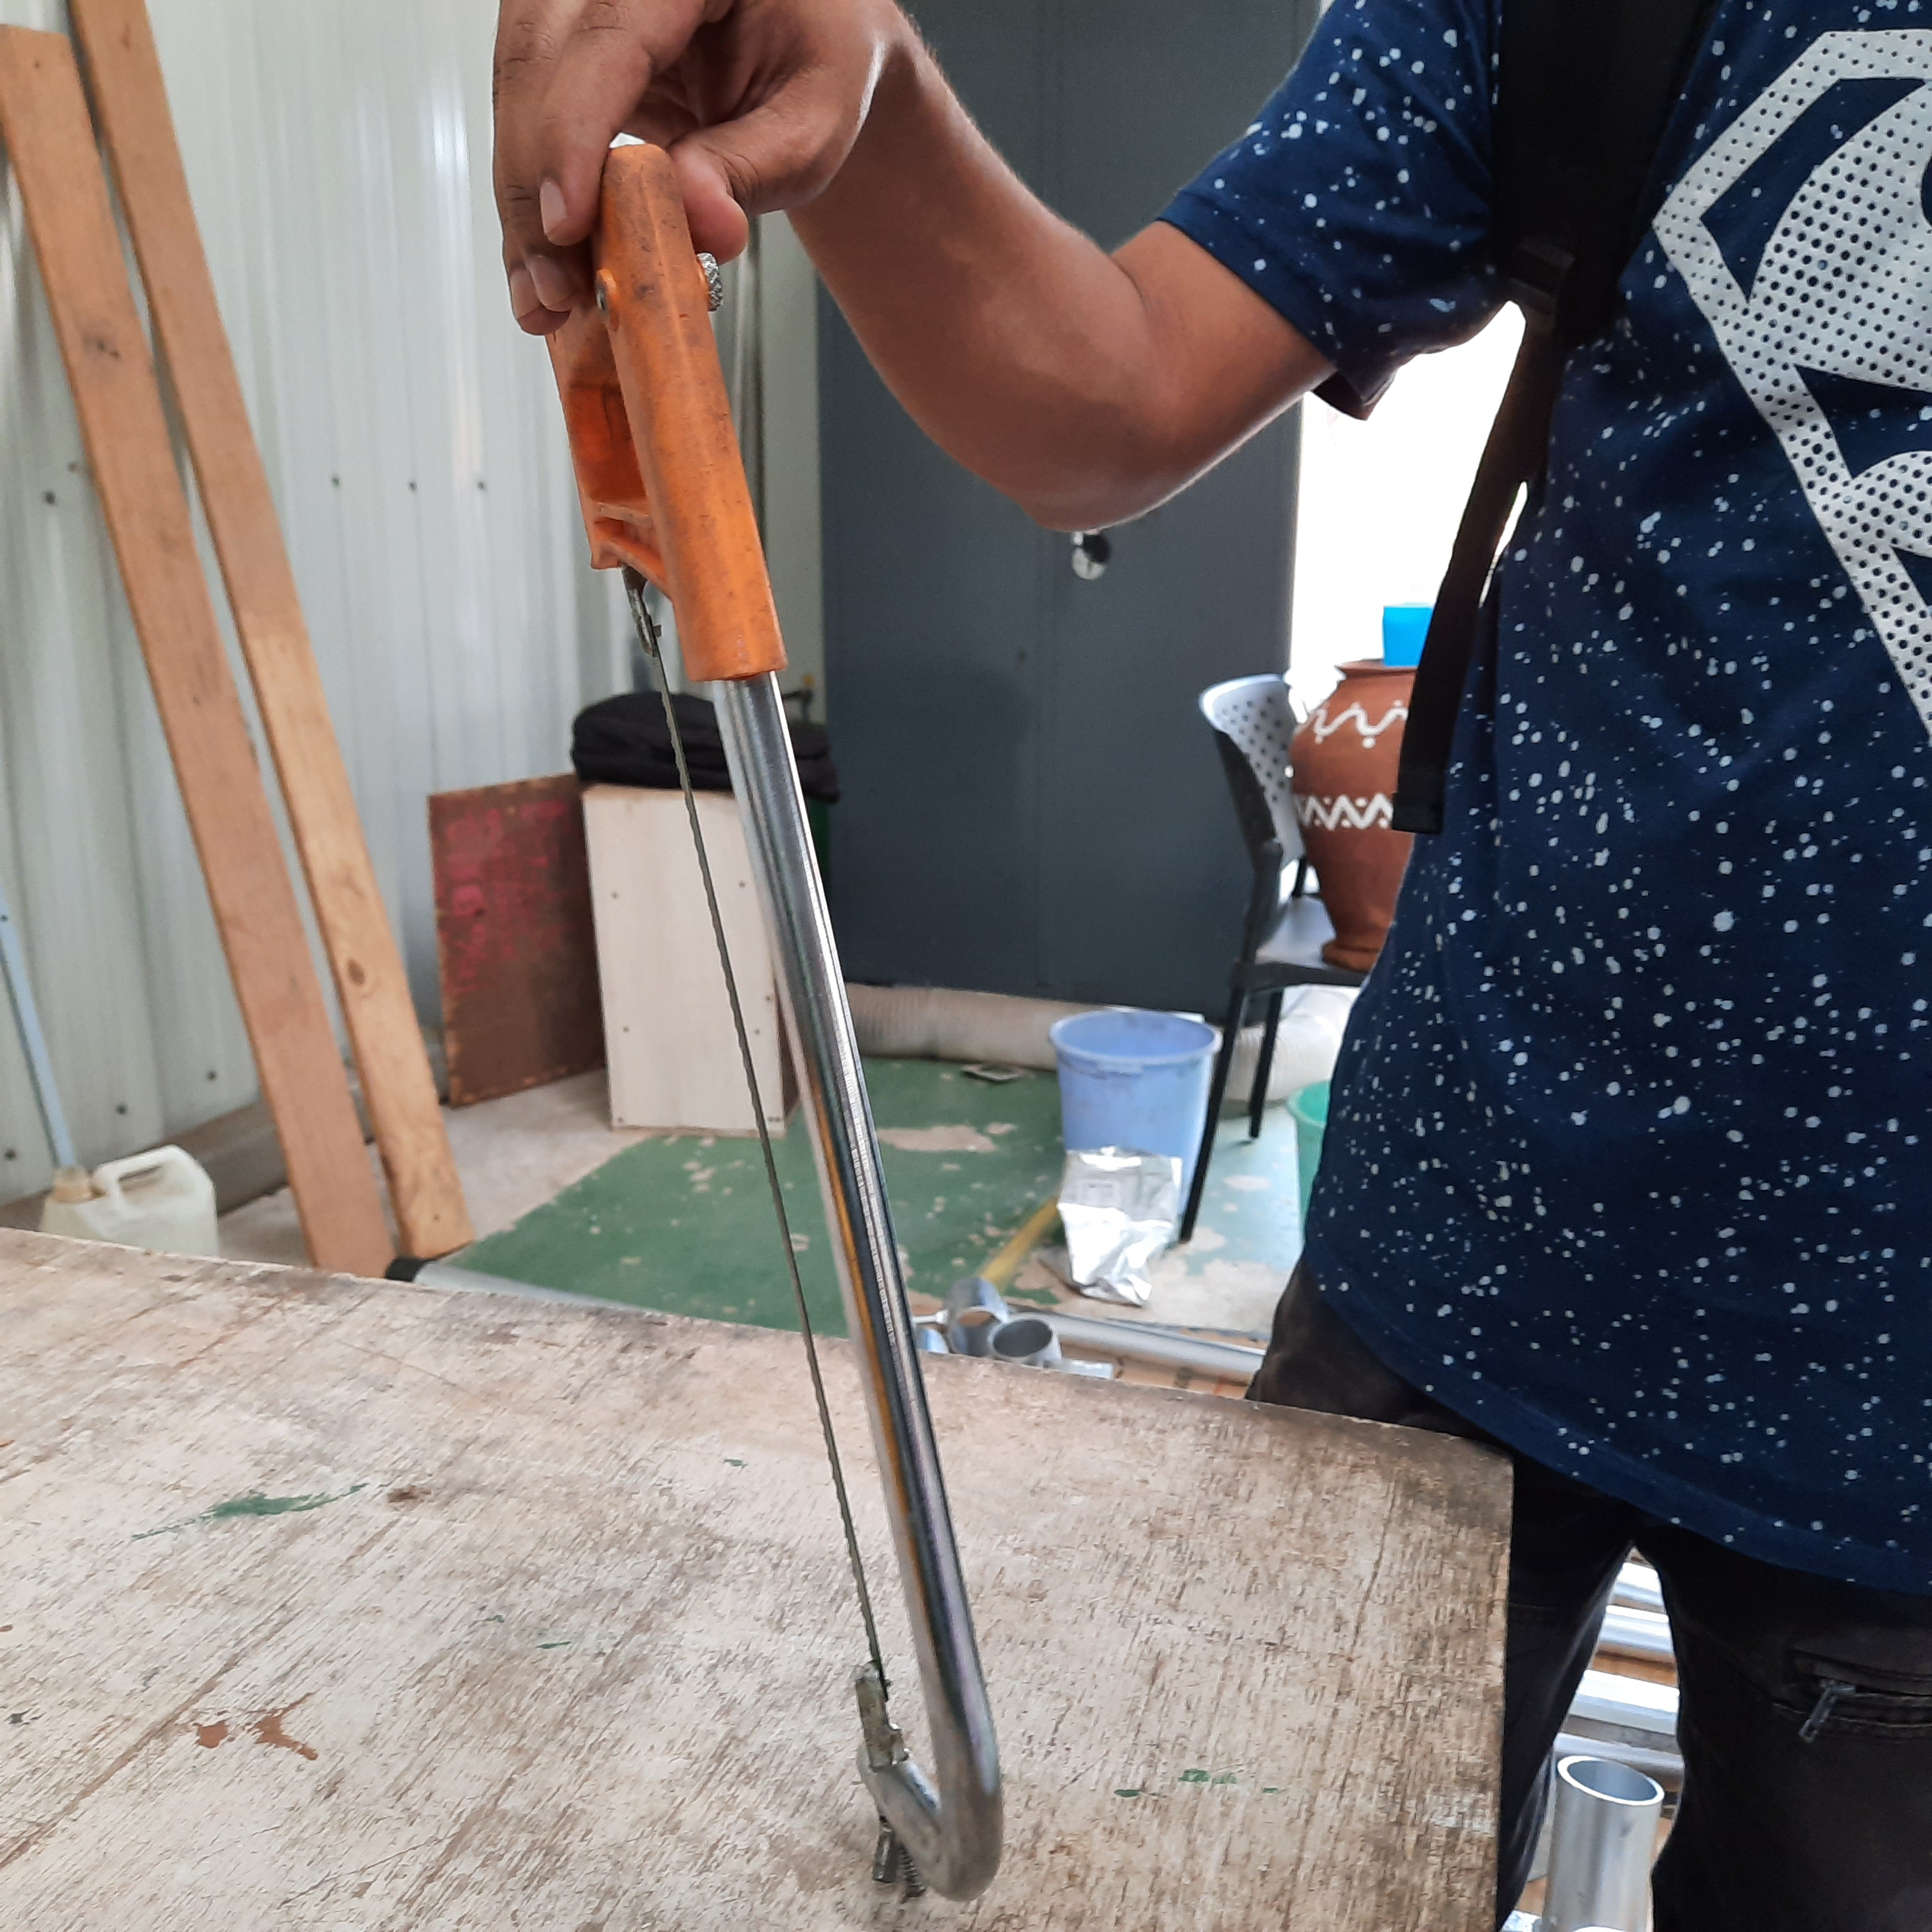Hexaframe: (446, 124, 1138, 1913)
